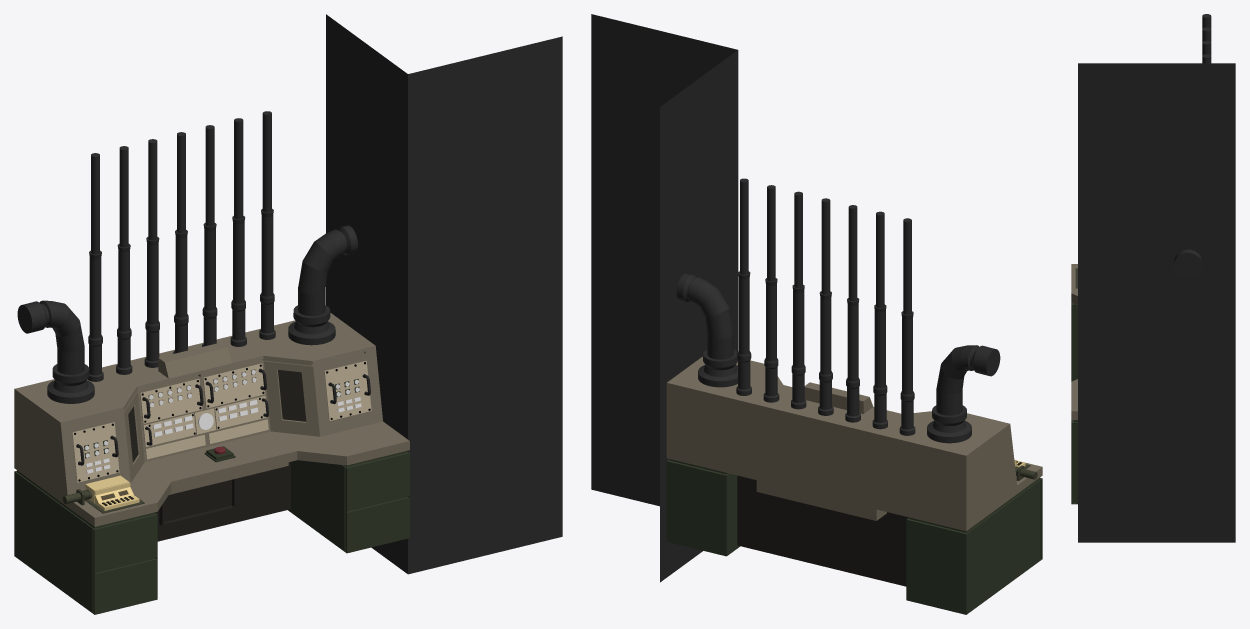
File: table.fbx
3 renders of one model, left to right at view 1: azimuth 30°, elevation 25°; view 2: azimuth 150°, elevation 25°; view 3: azimuth 270°, elevation 25°, orthographic. The views are drawn at different scales.
Visible parts, largest first — view 1: Pillar, TableSurface, Drawers, Pipes, TablePanels, SidePipe, Backboard, KeyboardBase.001, TableSurface.001, Controls, Controls.001, Rail.001; view 2: Pillar, TableSurface, Drawers, Pipes, Backboard, SidePipe; view 3: Pillar, Drawers, SidePipe, TableSurface, Pipes.
Part boxes in pixels (x1,y1,x2,y2): Pillar: (326,14,562,574); TableSurface: (14,313,409,526); Drawers: (14,451,409,614); Pipes: (87,111,275,381); TablePanels: (72,360,371,482); SidePipe: (17,225,357,403); Backboard: (155,462,290,541); KeyboardBase.001: (62,475,144,513); TableSurface.001: (128,370,306,462); Controls: (86,397,361,473); Controls.001: (84,369,359,458); Rail.001: (76,368,370,465); Pillar: (591,14,738,582); TableSurface: (666,356,1042,531); Drawers: (666,459,1042,614); Pipes: (736,178,915,435); Backboard: (737,475,908,586); SidePipe: (676,273,1000,443); Pillar: (1078,63,1235,542); Drawers: (1071,302,1077,504); SidePipe: (1174,249,1201,278); TableSurface: (1071,264,1077,419); Pipes: (1202,14,1211,63).
Bounding box in the file's own units: 192 × 619 × 625.
